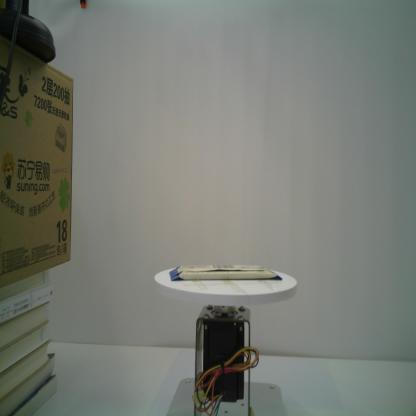Chocolate: (169, 264, 283, 281)
